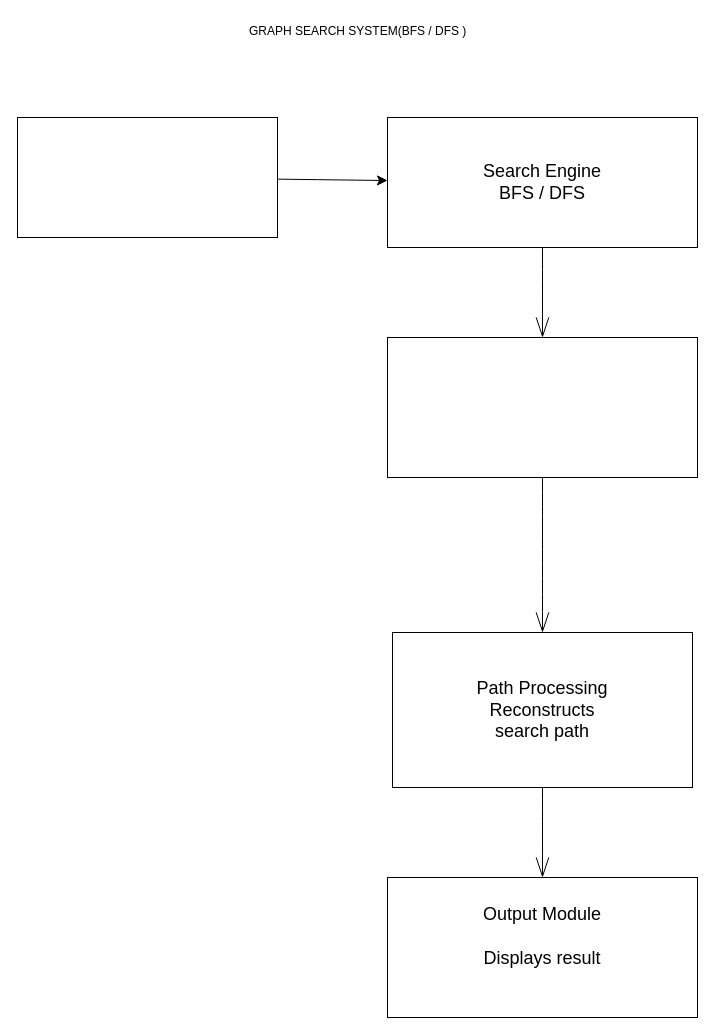
Image size: 715x1035. Some labels were removed from this diagram. Here are the shapes that lost their labels. From the top down, the centre of each, then its label:
At [147,177]: "Input Module Graph + Start + Goal Node".
At [542,407]: "Visited Set Stores visited nodes".
